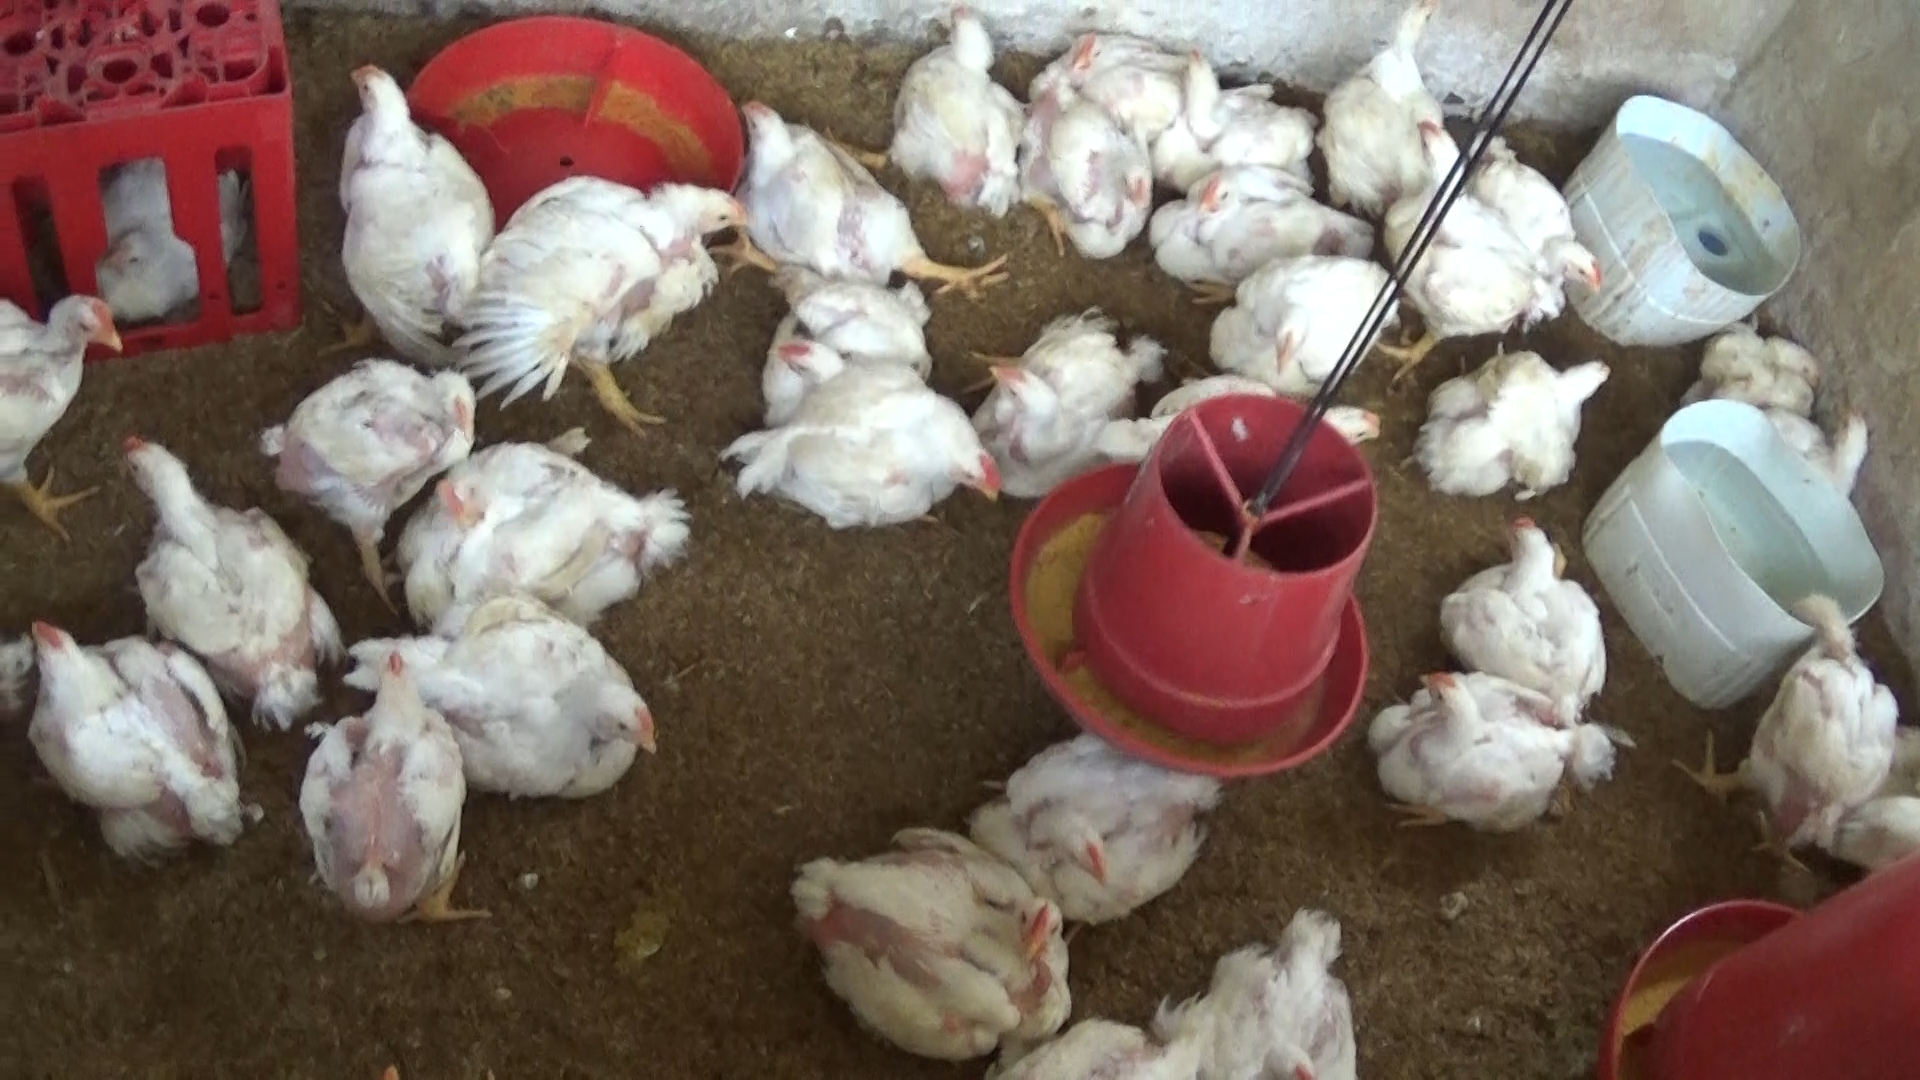Pollos: (109, 429, 340, 735), (793, 818, 1071, 1065), (25, 607, 256, 882), (458, 178, 757, 378), (407, 588, 671, 812), (297, 640, 485, 949), (392, 429, 682, 626), (713, 367, 1006, 535), (1742, 568, 1898, 873), (976, 721, 1207, 916), (336, 58, 491, 348), (1366, 658, 1613, 829), (262, 359, 483, 541), (727, 84, 905, 286), (967, 314, 1151, 495), (1451, 508, 1613, 708), (1166, 918, 1367, 1073), (886, 0, 1025, 222), (1416, 343, 1615, 495), (745, 276, 951, 422), (1377, 203, 1622, 323), (1313, 33, 1472, 218), (0, 273, 131, 495), (1007, 71, 1162, 258), (1168, 160, 1370, 286), (1221, 251, 1395, 397), (1145, 49, 1323, 179), (1060, 7, 1205, 132), (1756, 378, 1871, 495), (1313, 396, 1389, 468)
